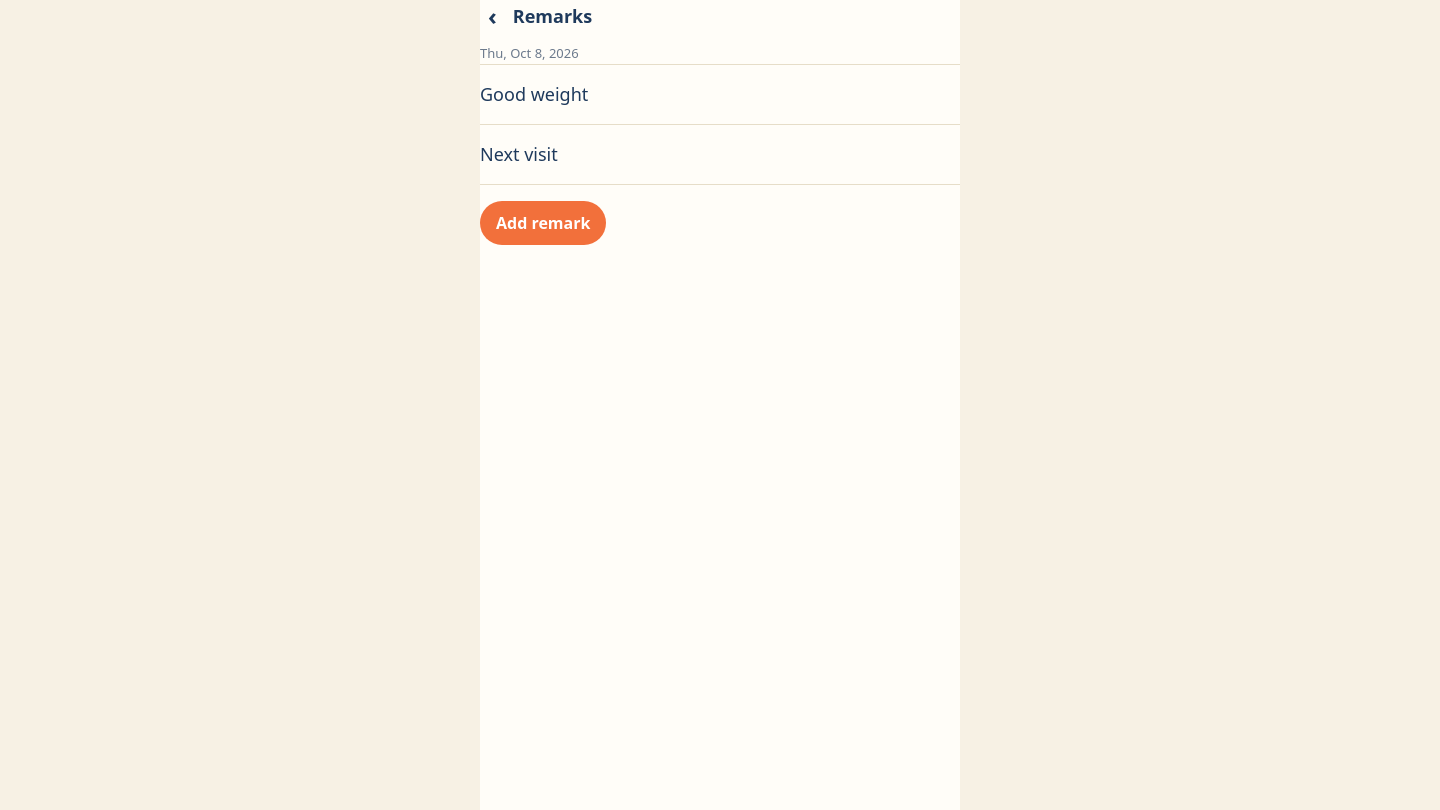
Test: Pediatrician screens › deletes a remark after confirmation, leaving the others
This screenshot has width=1440, height=810.
Click the button "Good weight" at (534, 94), box [480, 80, 960, 108]
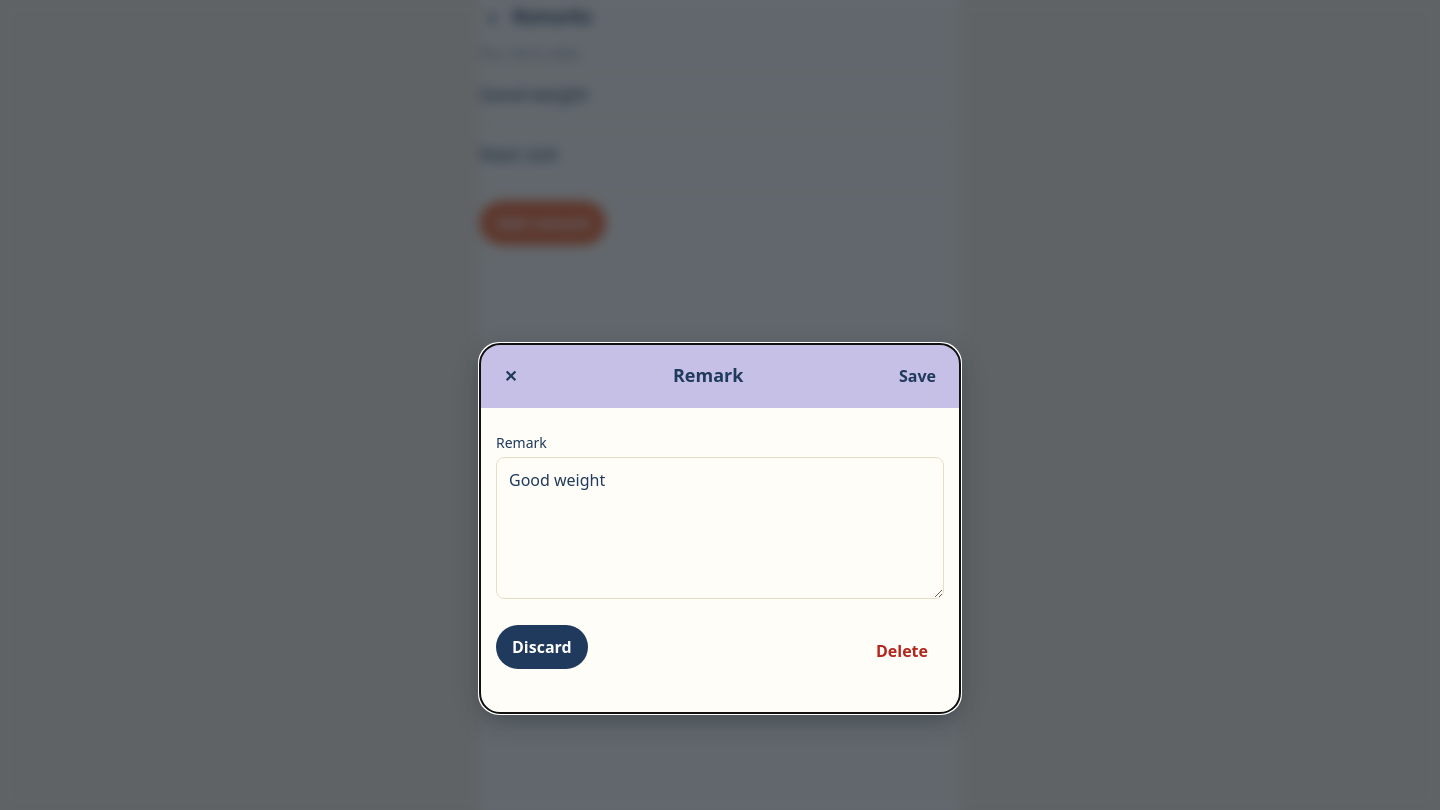
Click the button "Delete" at (902, 651), box [860, 629, 944, 673]
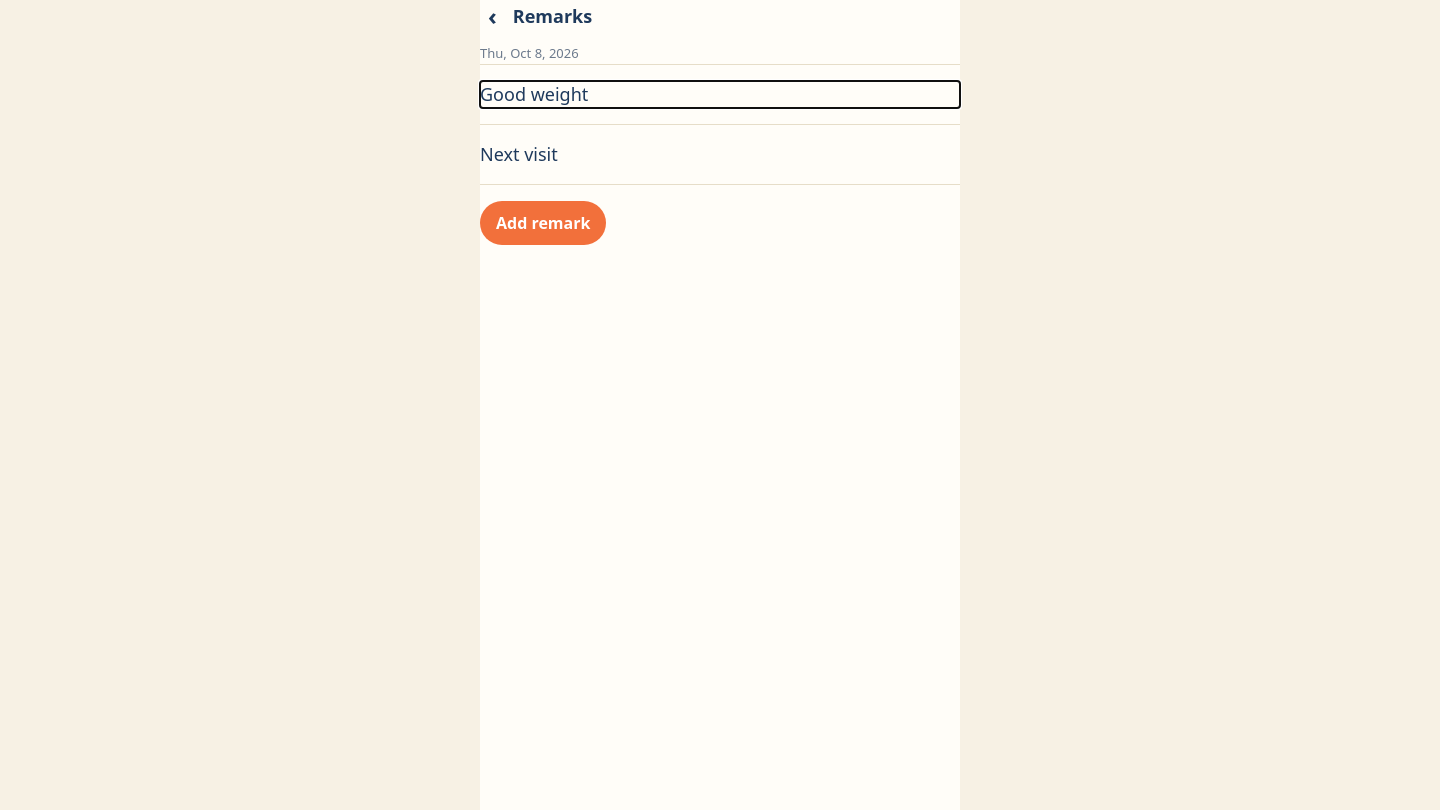
Expected: the dialog is gone
